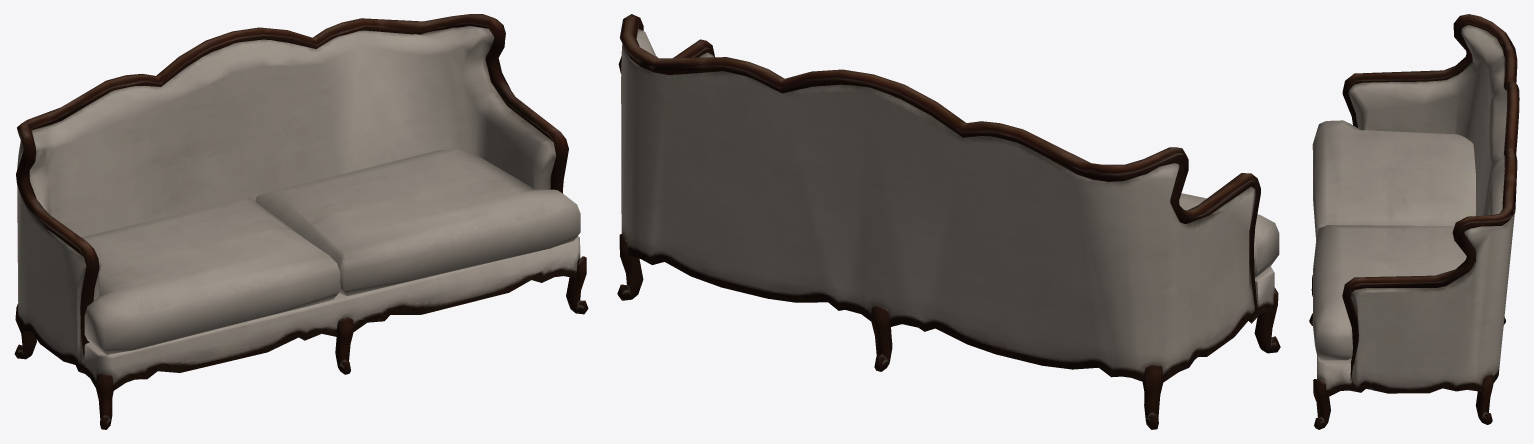
The model's file is ph_Sofa_01.glb.
The picture shows the model from 3 angles, left to right: view 1: azimuth 30°, elevation 25°; view 2: azimuth 150°, elevation 25°; view 3: azimuth 270°, elevation 25°; orthographic projection. The views are drawn at different scales.
Parts seen in each view (by area): view 1: Sofa_01; view 2: Sofa_01; view 3: Sofa_01.
Part boxes in pixels (x1=…): Sofa_01: x1=14, y1=14, x2=588, y2=429; Sofa_01: x1=617, y1=14, x2=1280, y2=429; Sofa_01: x1=1309, y1=14, x2=1519, y2=429.
Size of the model in its own units: 1.57 by 0.7953 by 0.658.
Materials: 1 (1 with a texture image).
